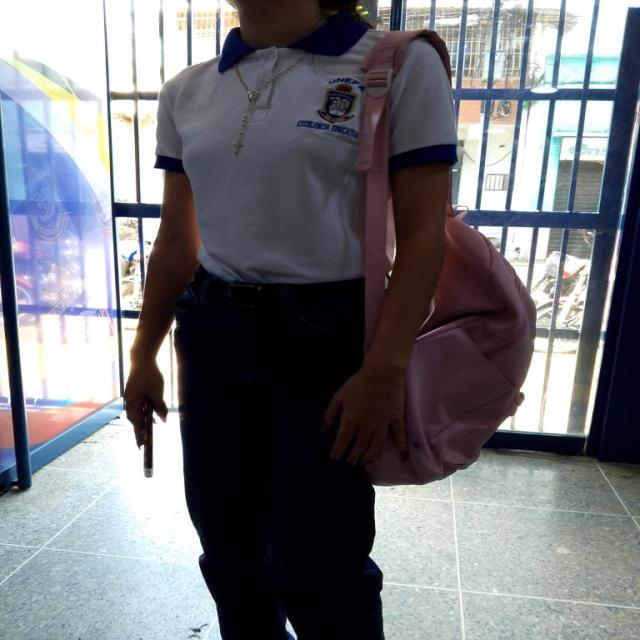pantalon_oscuro: (178, 277, 384, 640)
uniforme_superior: (153, 10, 458, 286)
